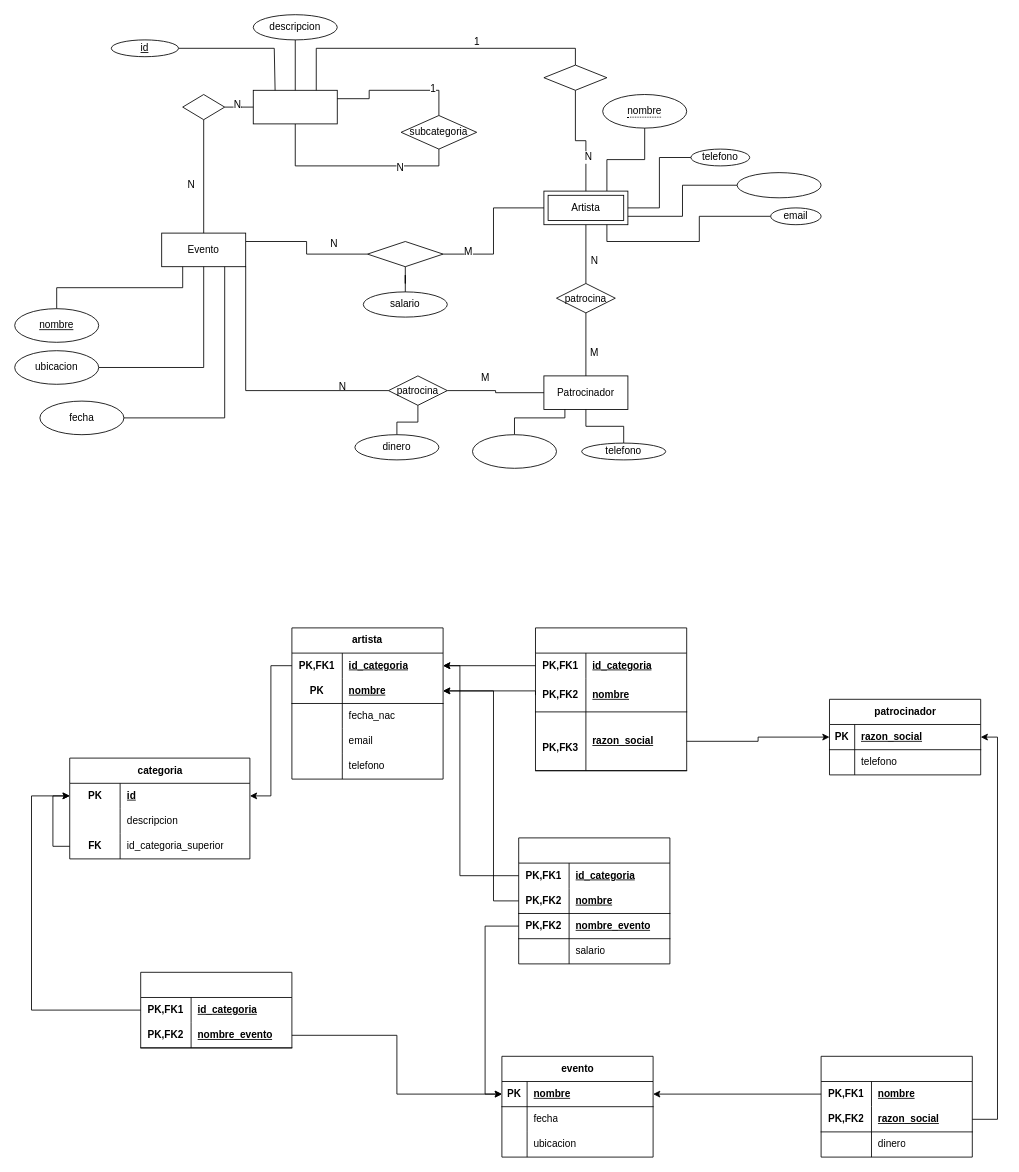
Image size: 1019x1172. Some labels were removed from this diagram. The shapes that lost their labels are listed below. From the top down, each one's box as (x1, y1, x2, y2) in pixels, then its label:
(543, 64, 607, 90): pertenece
(182, 94, 225, 120): tiene
(252, 89, 337, 124): Categoría
(736, 172, 821, 198): fecha_nacimiento
(367, 241, 443, 267): participa
(472, 434, 556, 468): razon social
(535, 627, 687, 771): patrocinador_artistas
(518, 837, 670, 964): artista_evento
(140, 971, 292, 1048): categorias_evento
(820, 1055, 972, 1157): patrocinador_evento
